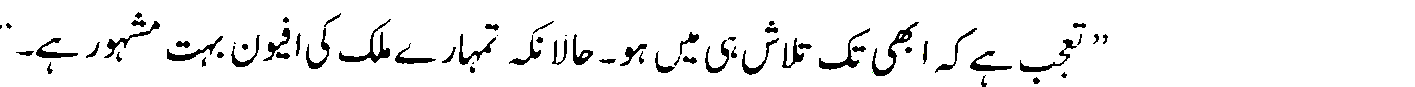bay_shosha: (1015, 55, 1056, 85)
